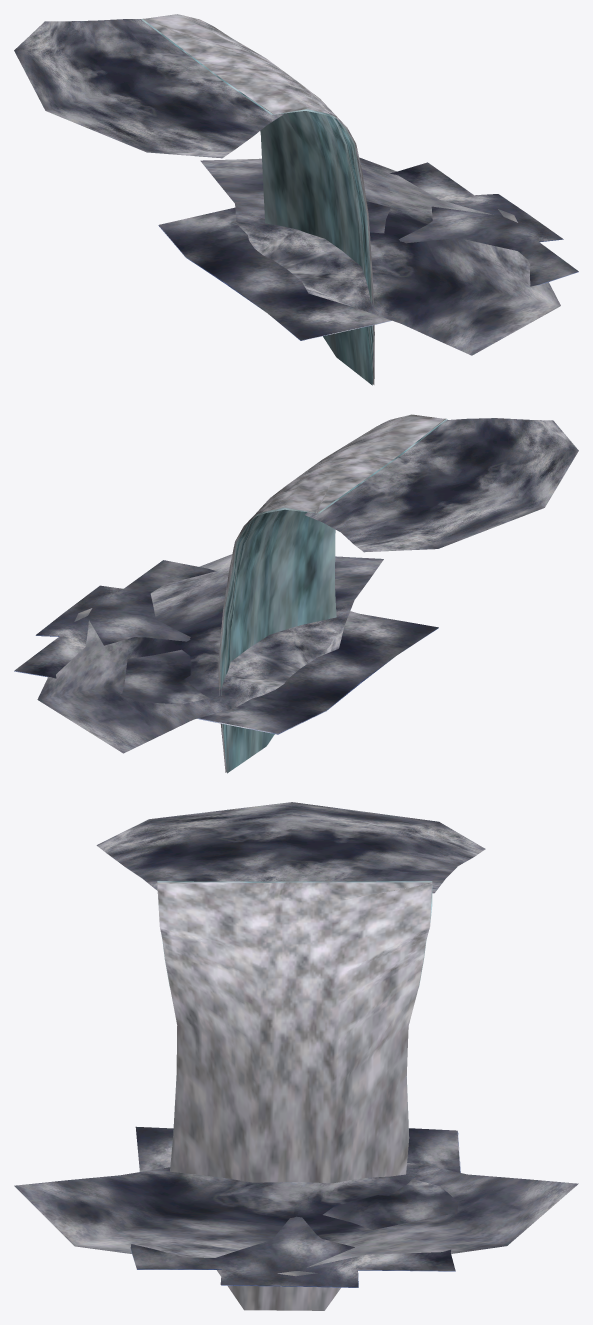
Rendered from WATERROOM_WATERFALL.fbx.
3 views of the same model, one above another, from view 1: azimuth 30°, elevation 25°; view 2: azimuth 150°, elevation 25°; view 3: azimuth 270°, elevation 25° (orthographic). The views are drawn at different scales.
Visible parts, largest first — view 1: WATERROOM_WATERFALL; view 2: WATERROOM_WATERFALL; view 3: WATERROOM_WATERFALL.
Part boxes in pixels (left/top/right/bottom): WATERROOM_WATERFALL: left=14, top=14, right=578, bottom=385; WATERROOM_WATERFALL: left=14, top=414, right=578, bottom=773; WATERROOM_WATERFALL: left=14, top=802, right=578, bottom=1310.
Bounding box in the file's own units: 188302 × 124889 × 180385.
5 materials, 5 textured.
